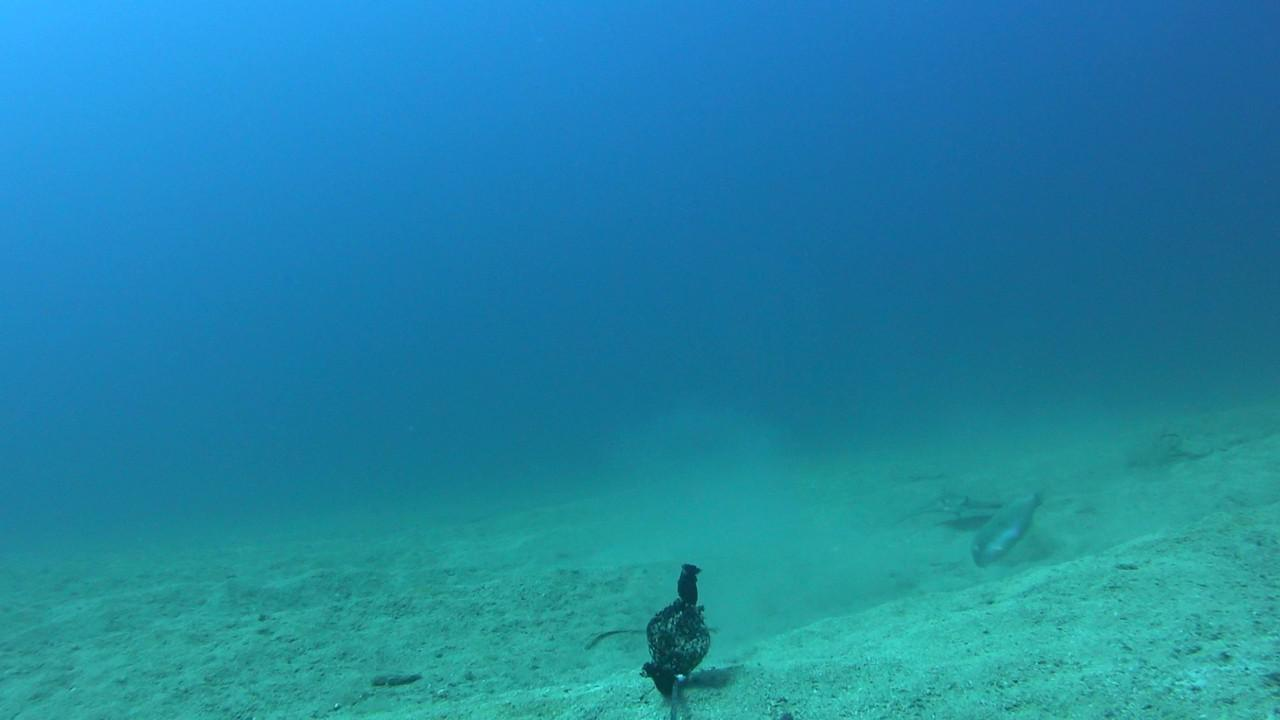myliobatis: (903, 472, 1039, 527)
raor: (967, 491, 1042, 569)
